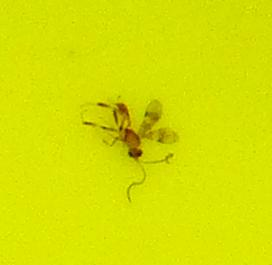Hymenoptera: (100, 100, 172, 165)
